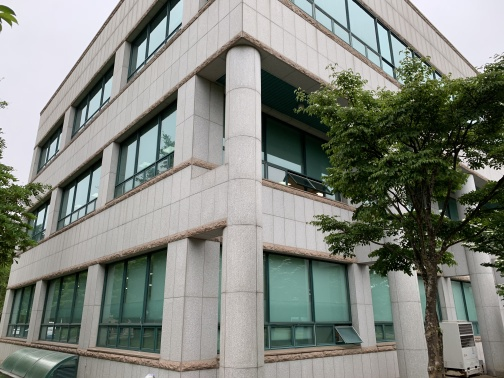Second Library: (23, 5, 423, 378)
